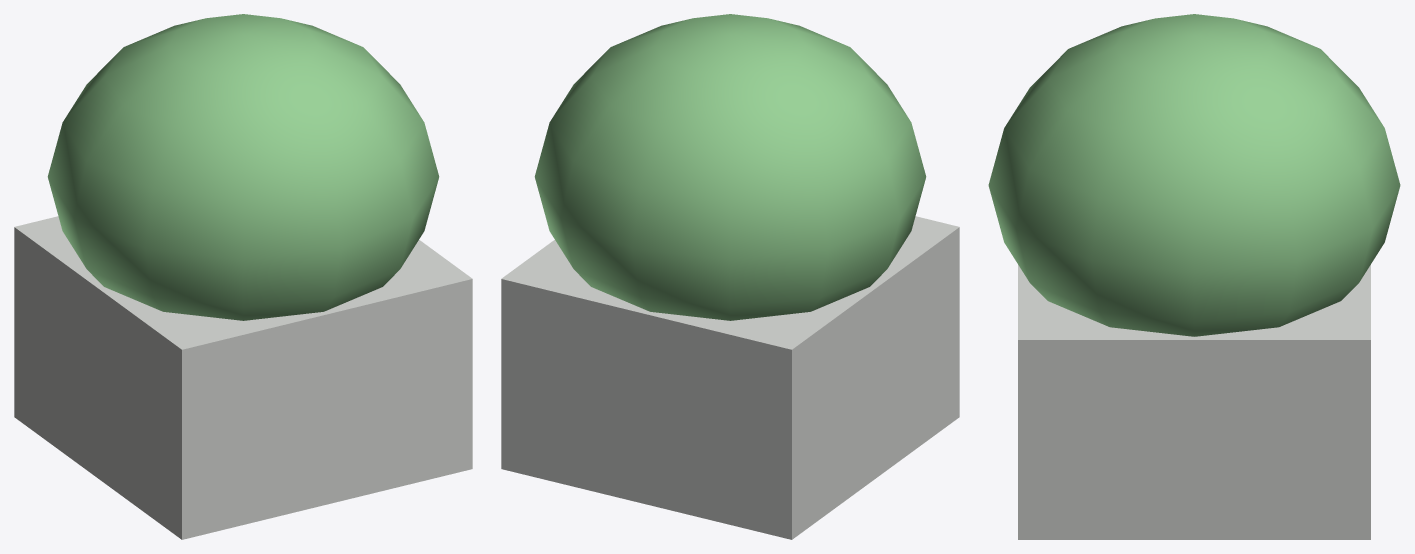
Rendered from planter-procedural.glb.
3 views of the same model, side by side, from view 1: azimuth 30°, elevation 25°; view 2: azimuth 150°, elevation 25°; view 3: azimuth 270°, elevation 25° (orthographic). The views are drawn at different scales.
Visible parts, largest first — view 1: pot, bush; view 2: pot, bush; view 3: bush, pot.
Boxes of the visible parts, x1=… form: pot: x1=14, y1=216, x2=472, y2=539; bush: x1=47, y1=14, x2=439, y2=320; pot: x1=501, y1=216, x2=959, y2=539; bush: x1=534, y1=14, x2=926, y2=320; bush: x1=988, y1=14, x2=1400, y2=336; pot: x1=1018, y1=265, x2=1370, y2=539.
Size of the model in its own units: 1.4 by 1.61 by 1.4.
